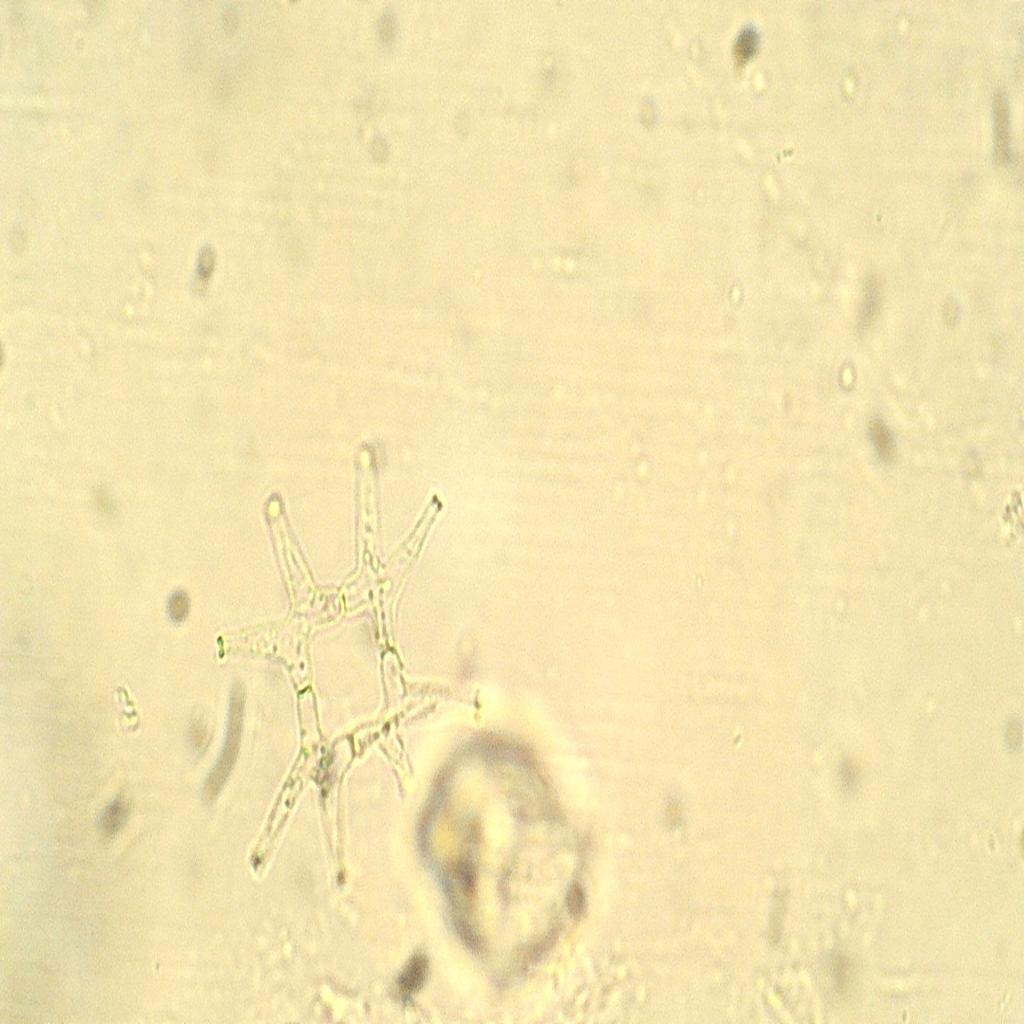Pediastrum_1F0: (188, 432, 488, 906)
